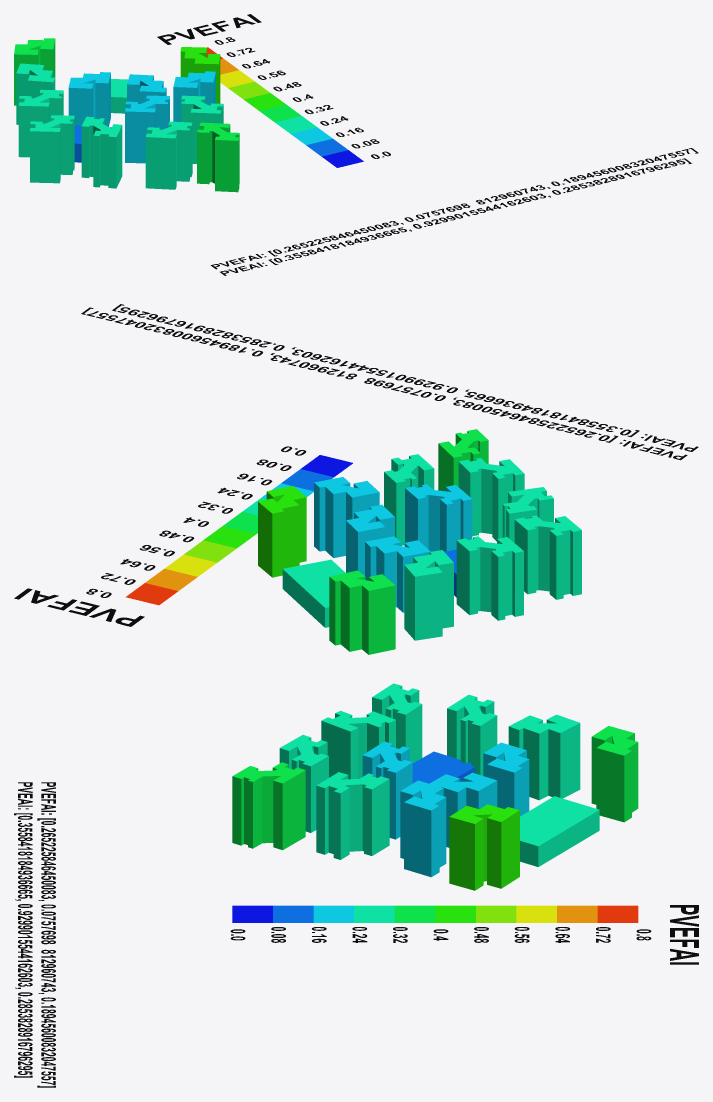
The model's file is punggol_luse101_pveavi2.dae.
The picture shows the model from 3 angles, top to bottom: view 1: azimuth 30°, elevation 25°; view 2: azimuth 150°, elevation 25°; view 3: azimuth 270°, elevation 25°; orthographic projection. The views are drawn at different scales.
Visible parts, largest first — view 1: node0 (×12); view 2: node0 (×12); view 3: node0 (×16).
Part boxes in pixels (x1,y1,x2,y2): node0 (×12): [14, 14, 698, 275]; node0 (×12): [14, 304, 698, 654]; node0 (×16): [14, 683, 698, 1087].
Bounding box in the file's own units: 521 × 447 × 48.
